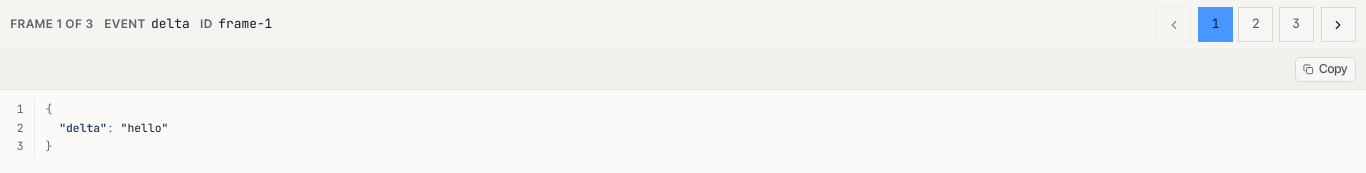
Test case: SSE payload rendering › replaces the selected frame while keeping hostile plaintext and DONE data inert
The image size is (1366, 173).
Click the radio button named "Response frame 2 of 3". click: x=1256, y=24
box: [1238,7,1273,42]
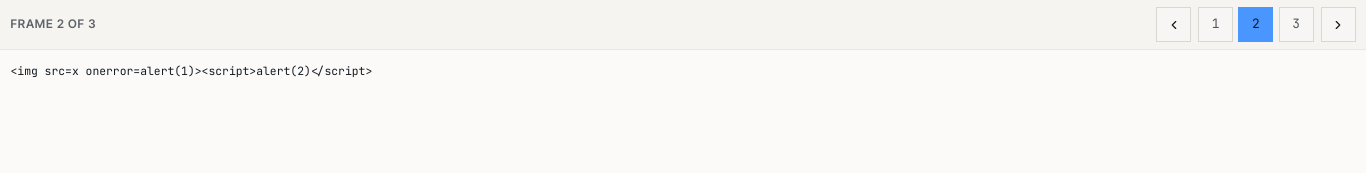
Result: the text "<img src=x onerror=alert(1)><script>alert(2)</script>" is shown at [10,62,372,78]
Result: the text "Event" is gone
Result: the text "ID" is gone
Click the button named "Next response frame". click: x=1338, y=24
box: [1320,7,1356,42]
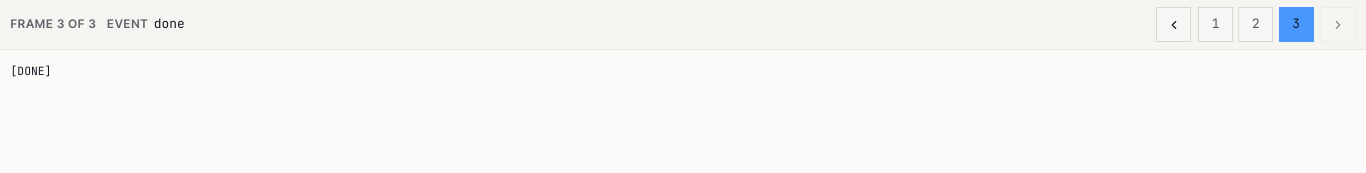
Expected: the text "[DONE]" is shown, [10,62,52,78]
Result: the text "<img src=x onerror=alert(1)><script>alert(2)</script>" is gone
Result: the text "done" is shown at [154,15,185,34]
